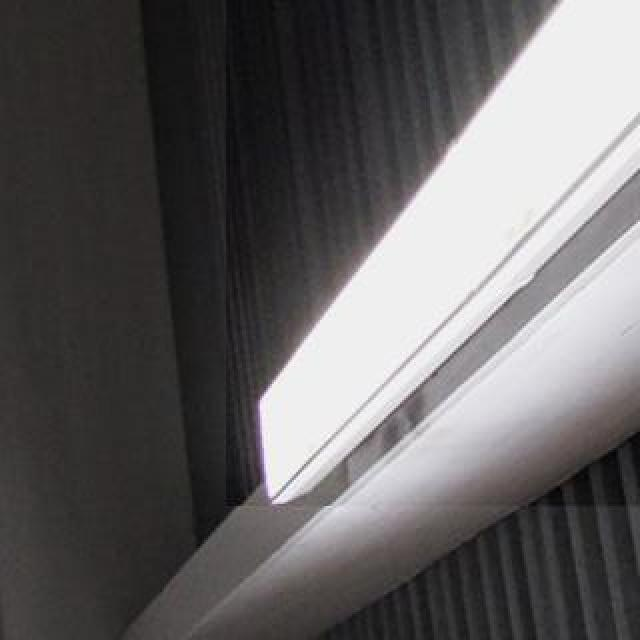fluorescent tube: (226, 0, 640, 514)
